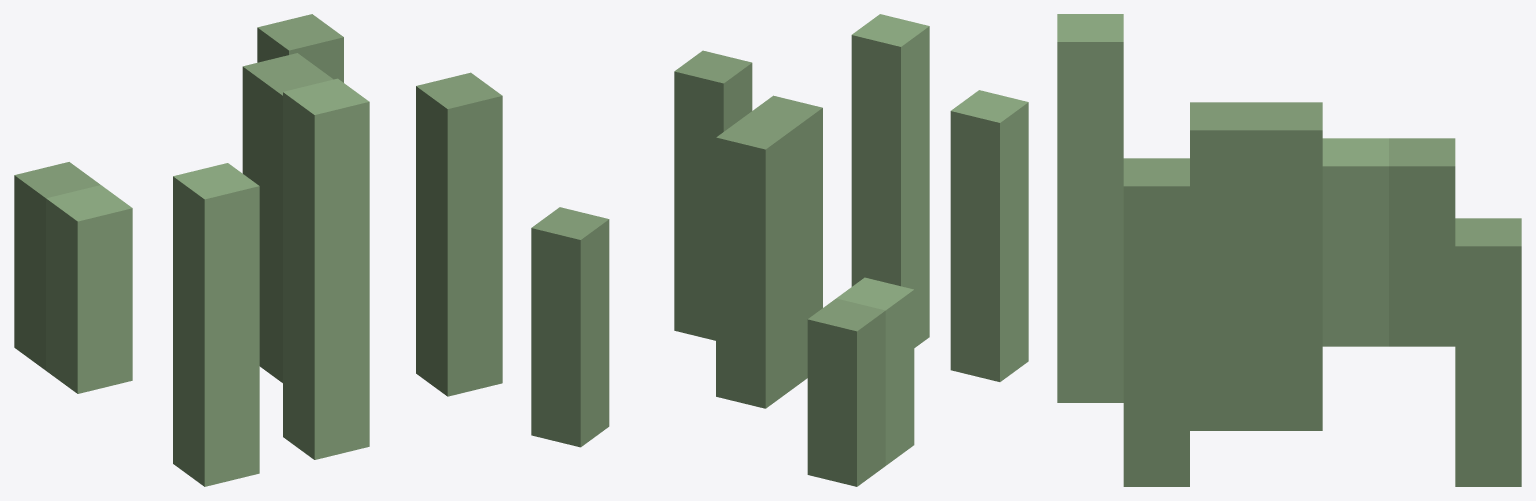
File: esparrago_silvestre_02.glb
The picture shows the model from 3 angles, left to right: view 1: azimuth 30°, elevation 25°; view 2: azimuth 150°, elevation 25°; view 3: azimuth 270°, elevation 25°; orthographic projection. The views are drawn at different scales.
Parts seen in each view (by area): view 1: esparrago_silvestre_02; view 2: esparrago_silvestre_02; view 3: esparrago_silvestre_02.
Boxes of the visible parts, x1,y1,x2,y2 form: esparrago_silvestre_02: (14,14,502,486); esparrago_silvestre_02: (531,14,1028,486); esparrago_silvestre_02: (1057,14,1521,486).
Size of the model in its own units: 0.6 by 0.6 by 0.7.
